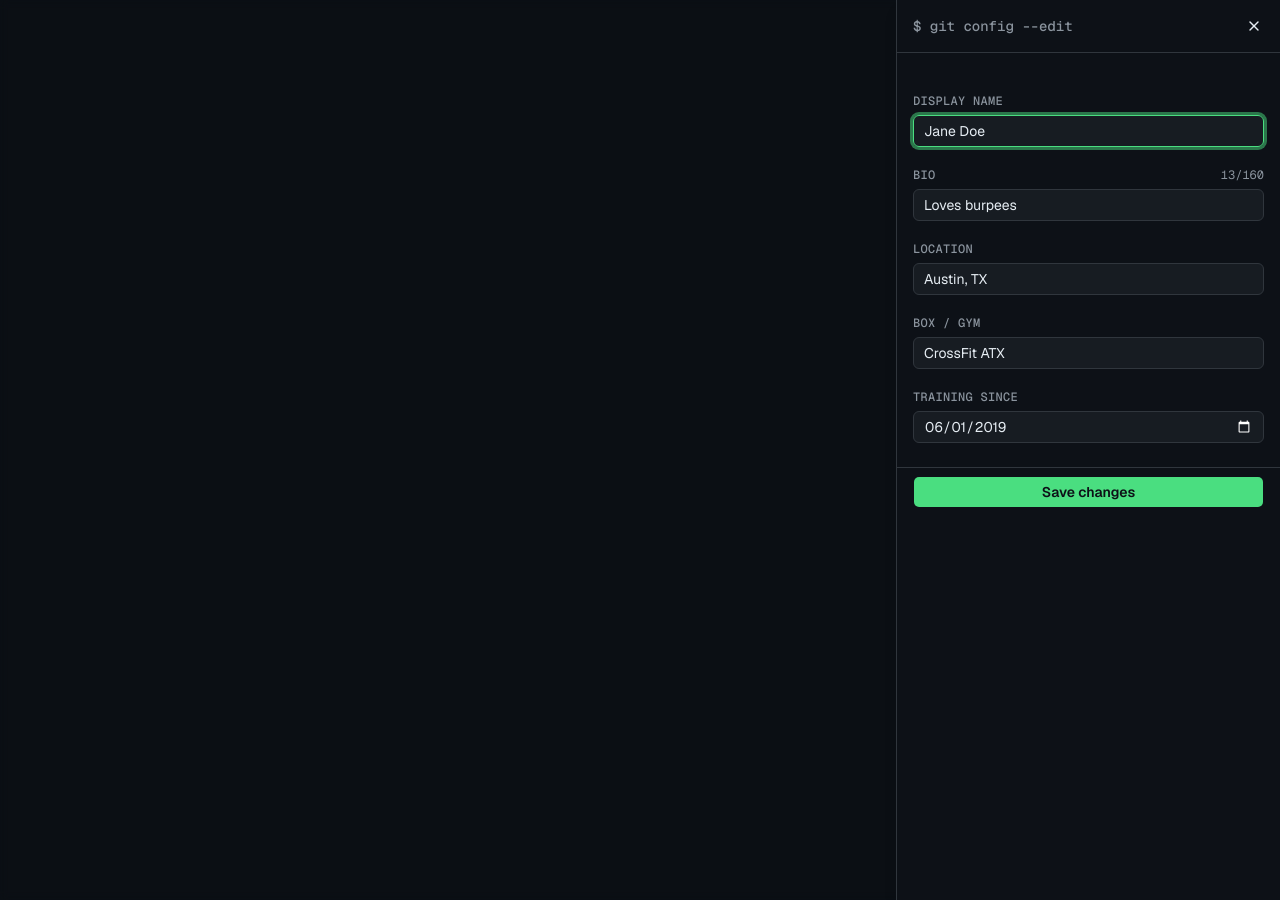
Test: EditIdentitySheet › shows error message when patch fails
Click the button "Save changes".
click(1088, 492)  # box [913,476,1264,508]
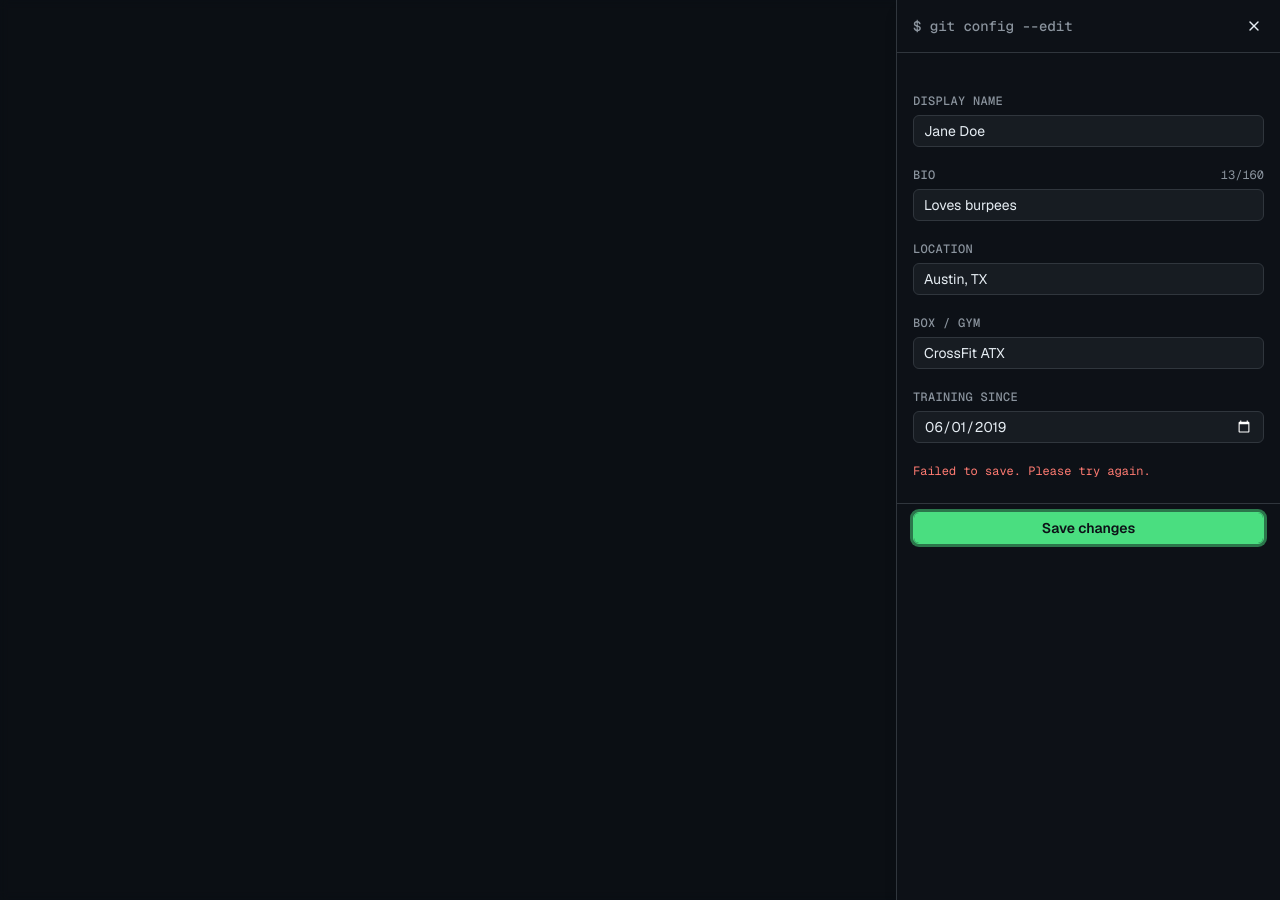
Expected: the text "Failed to save. Please try again." is shown, [913,463,1151,479]
